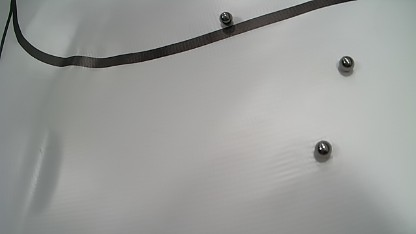ironball: (313, 140, 331, 162), (338, 55, 354, 72), (219, 12, 233, 25)
